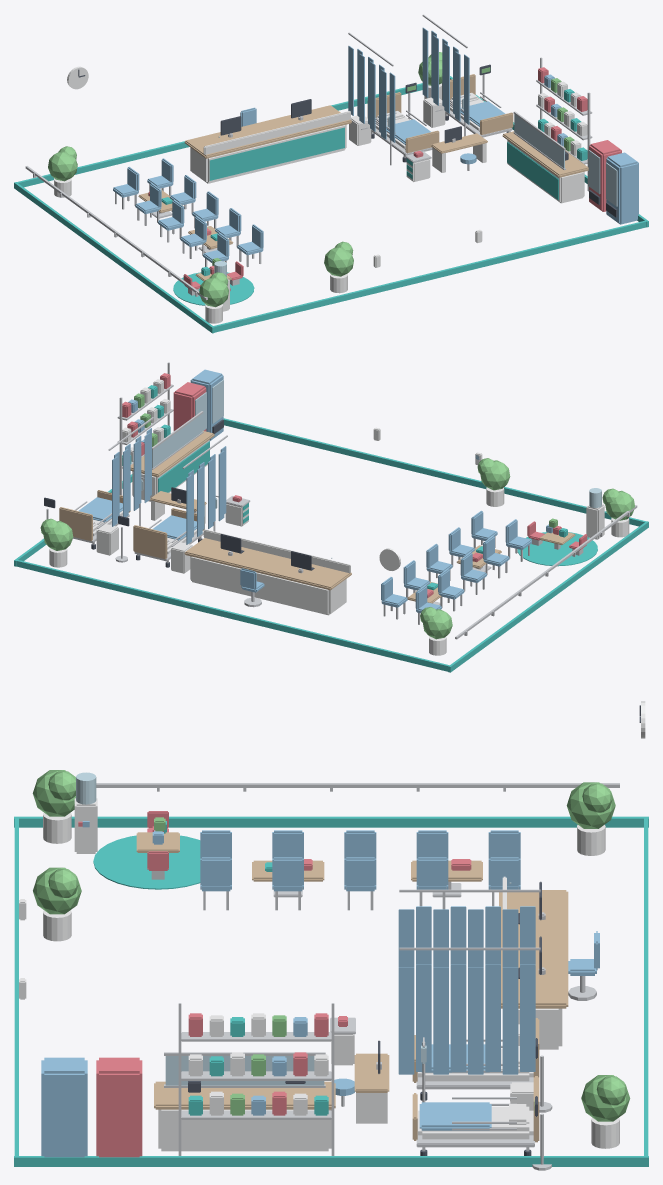
Rendered from interior_rs.fbx.
The picture shows the model from 3 angles, top to bottom: view 1: azimuth 30°, elevation 25°; view 2: azimuth 150°, elevation 25°; view 3: azimuth 270°, elevation 25°; orthographic projection. The views are drawn at different scales.
Parts seen in each view (by area): view 1: RsIntBlue, RsIntTeal, RsIntWhite, RsIntWood, RsIntMetal, RsIntGreen, RsIntGlass, RsIntRed, RsIntDark; view 2: RsIntBlue, RsIntTeal, RsIntWhite, RsIntWood, RsIntMetal, RsIntGreen, RsIntRed, RsIntGlass, RsIntDark; view 3: RsIntBlue, RsIntTeal, RsIntWhite, RsIntMetal, RsIntWood, RsIntGreen, RsIntRed, RsIntGlass, RsIntDark.
Part boxes in pixels (bbox=[...]): RsIntBlue: bbox=[113, 27, 638, 262]; RsIntTeal: bbox=[14, 76, 648, 333]; RsIntWhite: bbox=[54, 66, 587, 323]; RsIntWood: bbox=[138, 74, 588, 281]; RsIntMetal: bbox=[25, 14, 592, 300]; RsIntGreen: bbox=[48, 52, 574, 307]; RsIntGlass: bbox=[214, 98, 617, 276]; RsIntRed: bbox=[148, 67, 621, 290]; RsIntDark: bbox=[78, 64, 617, 217]; RsIntBlue: bbox=[78, 369, 552, 613]; RsIntTeal: bbox=[14, 385, 648, 672]; RsIntWhite: bbox=[49, 379, 629, 655]; RsIntWood: bbox=[59, 431, 575, 603]; RsIntMetal: bbox=[41, 362, 637, 639]; RsIntGreen: bbox=[40, 393, 634, 639]; RsIntRed: bbox=[122, 373, 587, 598]; RsIntGlass: bbox=[141, 379, 601, 558]; RsIntDark: bbox=[44, 419, 314, 570]; RsIntBlue: bbox=[41, 821, 599, 1157]; RsIntTeal: bbox=[14, 816, 648, 1166]; RsIntWhite: bbox=[19, 701, 645, 1151]; RsIntMetal: bbox=[96, 783, 619, 1170]; RsIntWood: bbox=[136, 832, 568, 1142]; RsIntGreen: bbox=[32, 770, 630, 1121]; RsIntRed: bbox=[78, 811, 471, 1157]; RsIntGlass: bbox=[76, 772, 511, 1085]; RsIntDark: bbox=[188, 705, 640, 1155].
Bounding box in the file's own units: 56.55 × 13.1 × 44.
